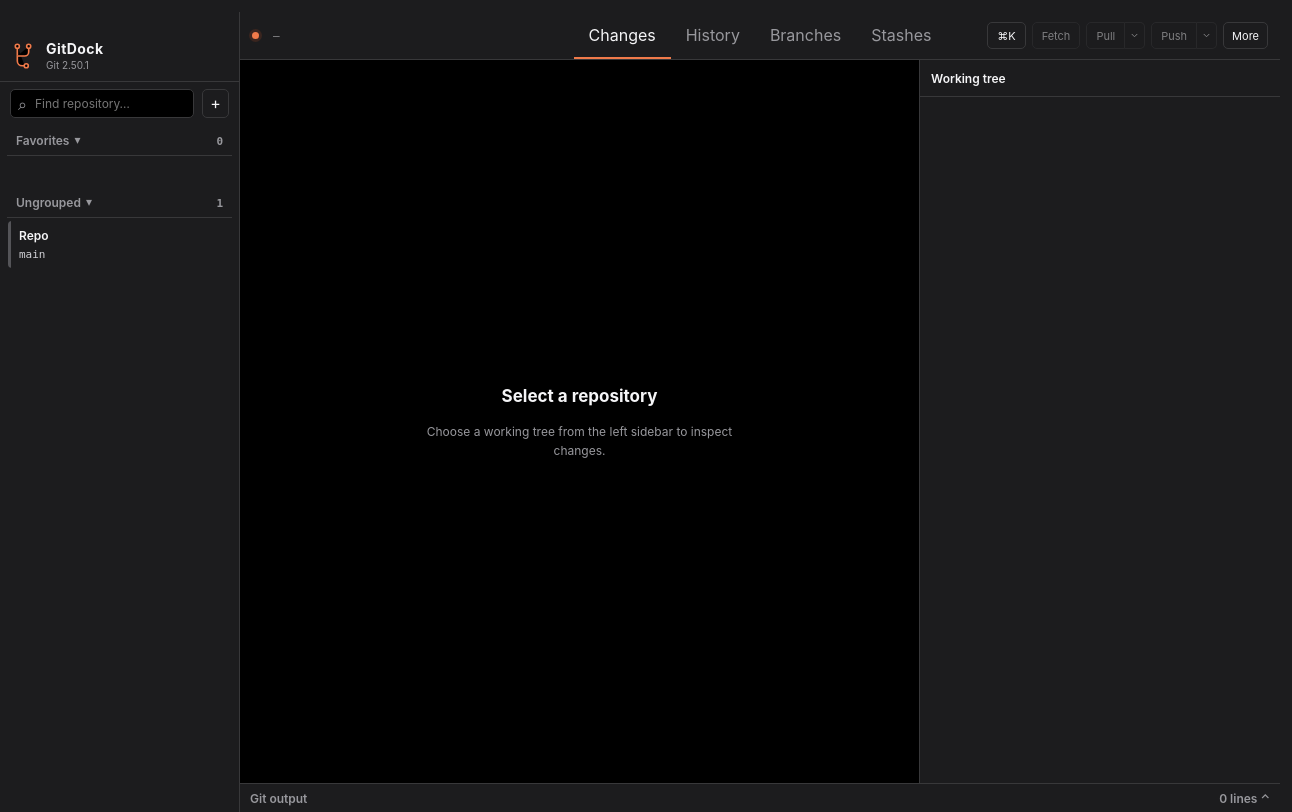
Test case: reloads history after leaving during the initial request
The image size is (1292, 812).
Step 1. Click the button with class "repo-row" → (120, 244), box [7,220,232,269]
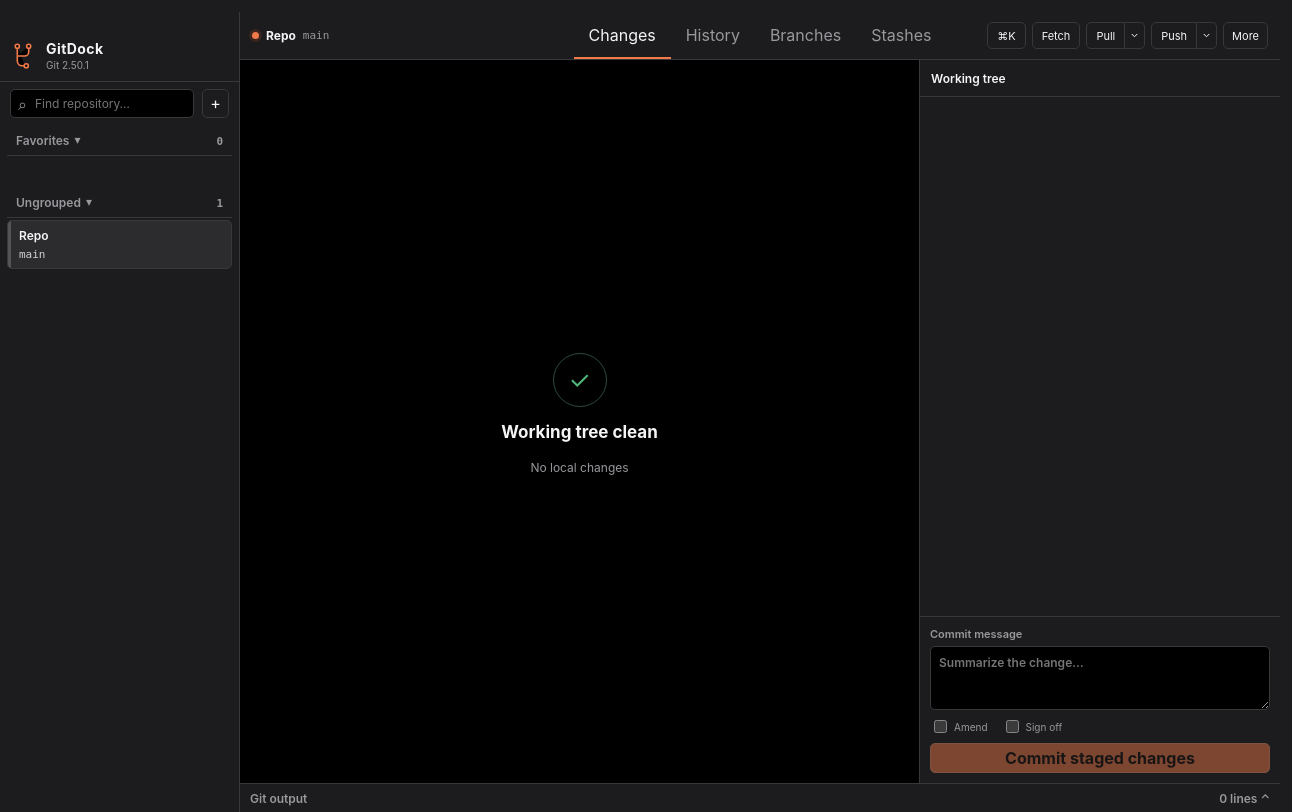
Step 2. Click the tab "History" → (713, 36), box [671,12,755,59]
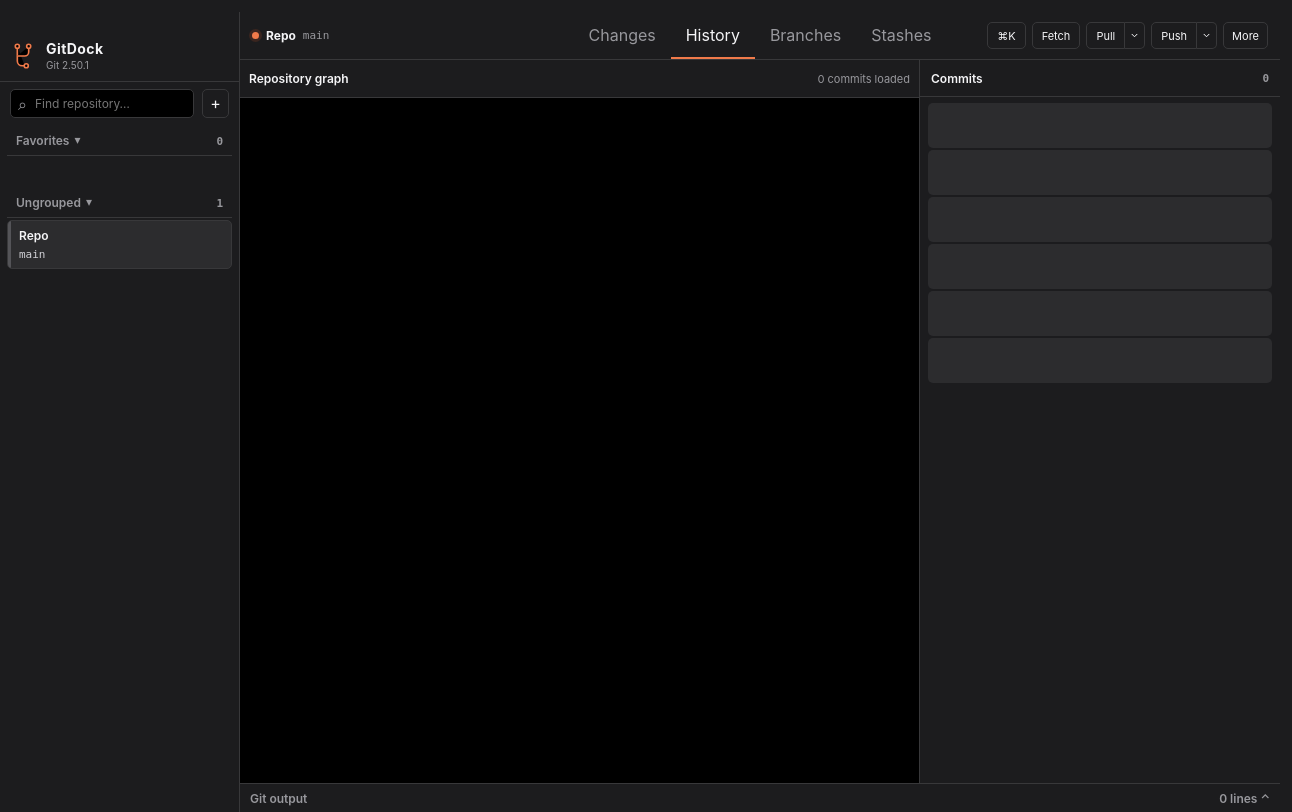
Step 3. Click the tab "Changes" → (622, 36), box [574,12,671,59]
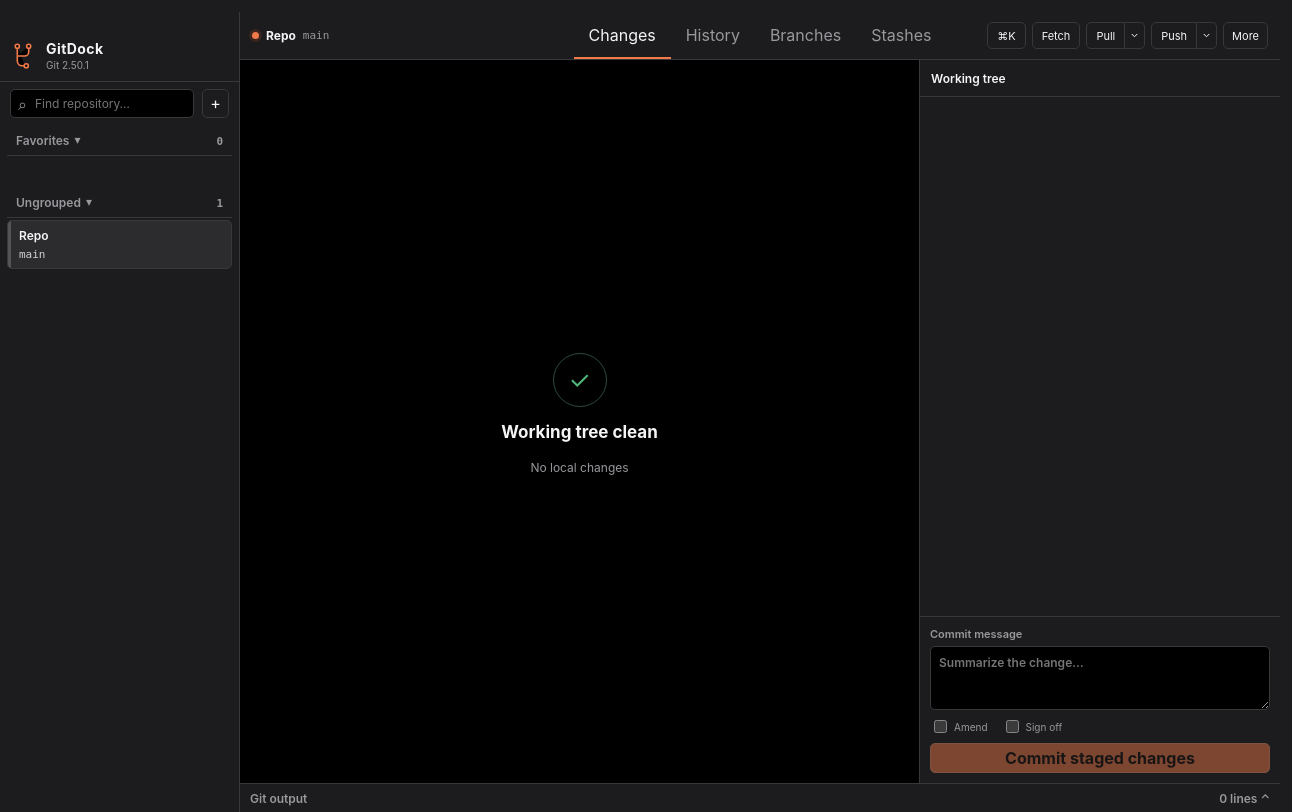
Step 4. Click the tab "History" → (713, 36), box [671,12,755,59]
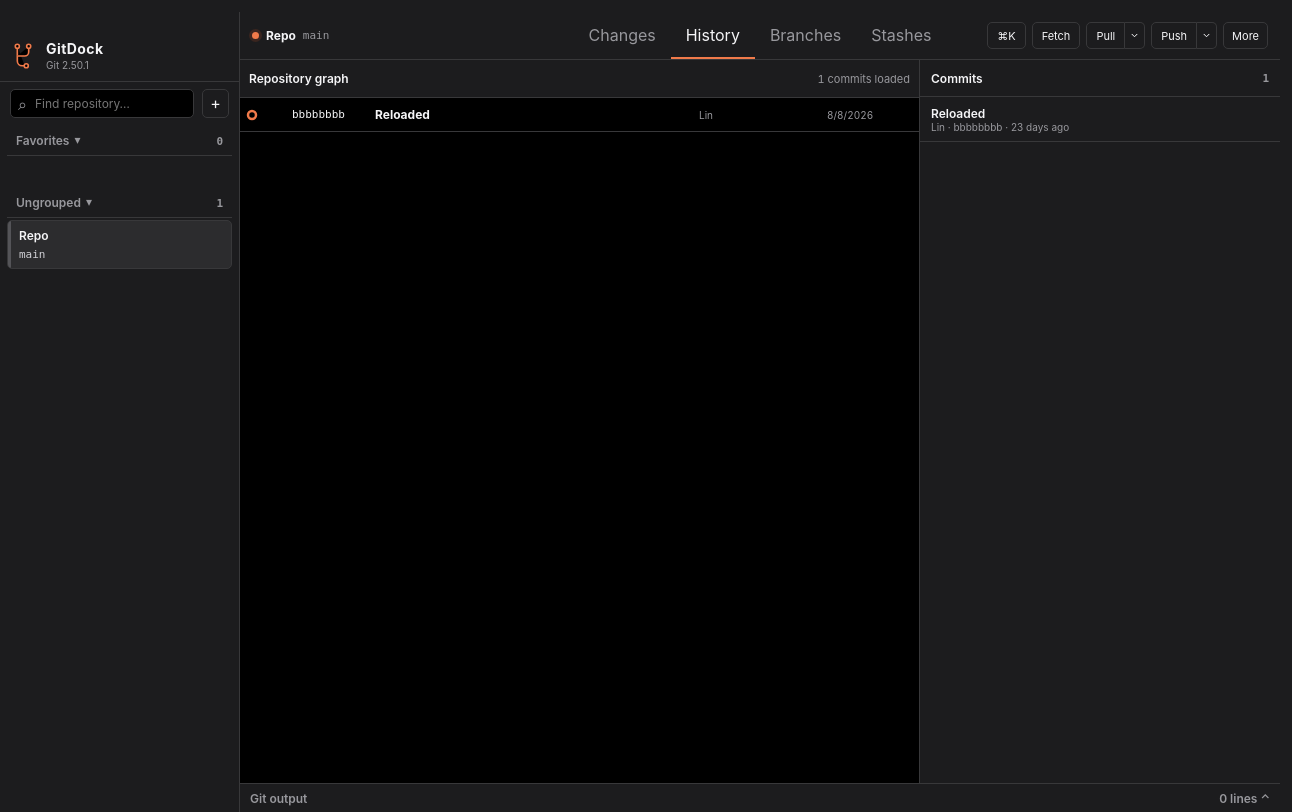
Now the text "Reloaded" below "Repository graph" is shown, box [375,107,430,122]
